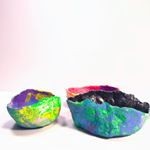other: (2, 85, 63, 131)
